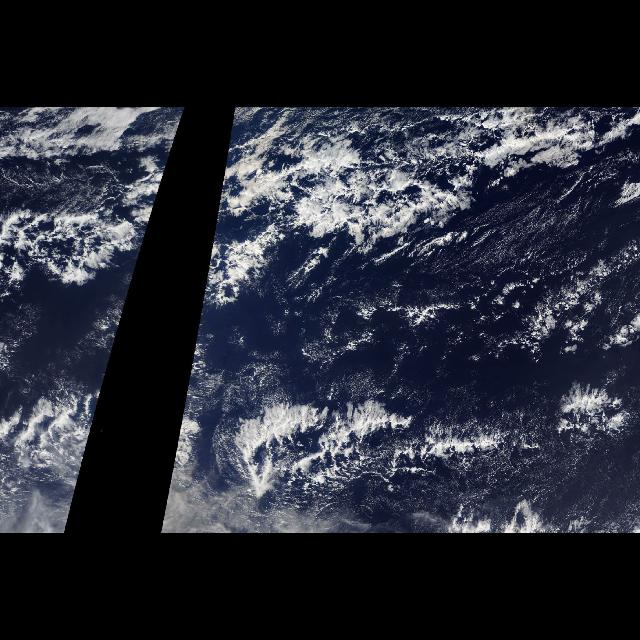Fish: (165, 131, 632, 507), (6, 132, 178, 506)
Gravel: (484, 205, 640, 355)
Sugar: (422, 202, 634, 314), (398, 442, 624, 516)
